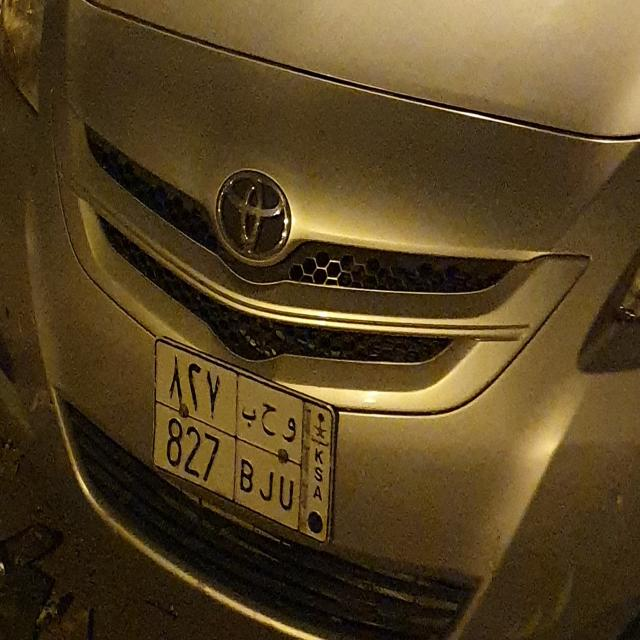license_plate: (150, 331, 340, 554)
